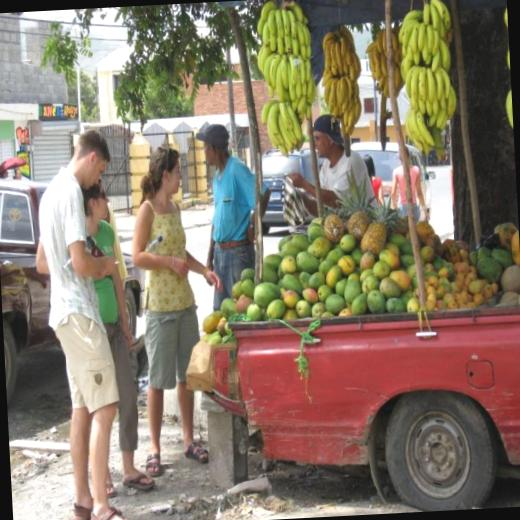Banana: (255, 0, 322, 162), (395, 0, 458, 154), (318, 25, 364, 138), (364, 24, 406, 100), (415, 110, 436, 147), (505, 91, 513, 128), (502, 7, 508, 28), (506, 50, 510, 70)
